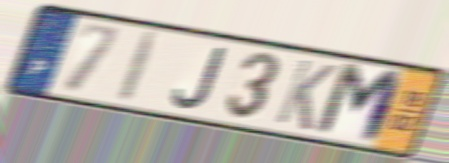3: (223, 50, 281, 122)
7: (59, 20, 123, 95)
I: (113, 29, 164, 107)
J: (171, 46, 228, 111)
K: (272, 56, 340, 134)
M: (310, 59, 408, 149)
